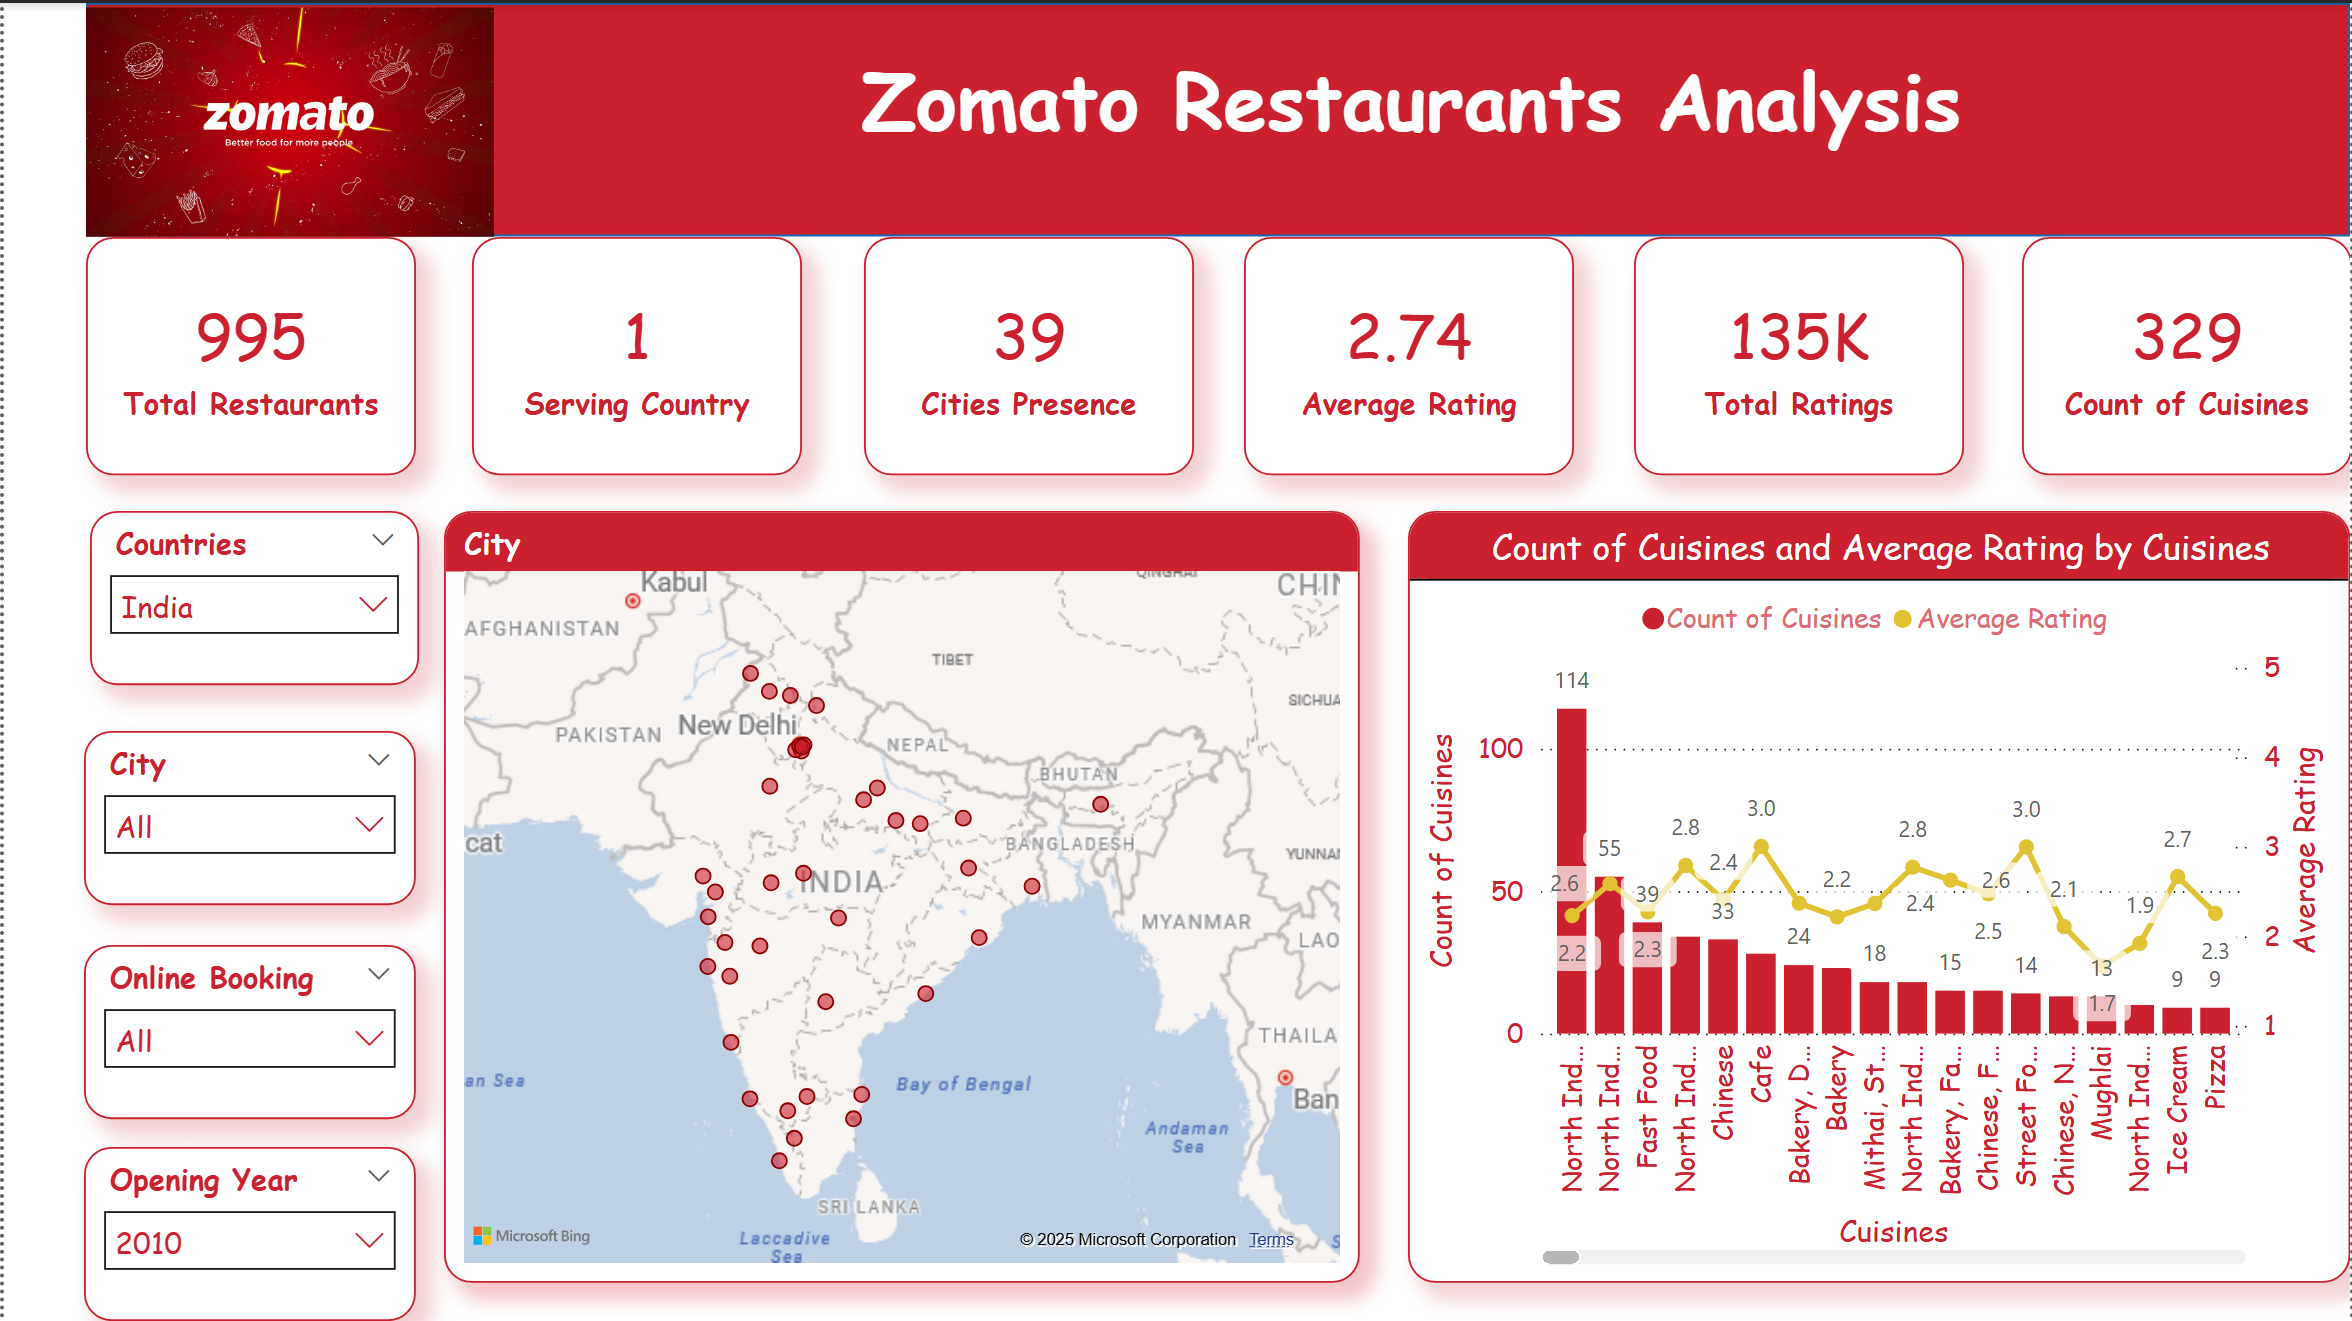

The page's visual inventory and layout, read from the dashboard file:
{"tool":"powerbi","page":{"name":"Page 1","canvas":[1280,720],"ordinal":0},"visuals":[{"type":"shape","box":[45.2,0,1234.8,127.3],"z":0},{"type":"textbox","box":[360.9,16.9,813.4,88.8],"z":2000},{"type":"card","fields":{"Values":["Count(restaurants.RestaurantID)"]},"box":[45.2,127.3,180,130],"z":3000},{"type":"card","fields":{"Values":["Count(restaurants.City)"]},"box":[468.7,127.3,180,130],"z":4000},{"type":"card","fields":{"Values":["Count(countries.countryID)"]},"box":[255.8,127.3,180,130],"z":5000},{"type":"card","fields":{"Values":["Avg(restaurants.Rating)"]},"box":[676.9,127.3,180,130],"z":6000},{"type":"card","fields":{"Values":["Sum(restaurants.Votes)"]},"box":[888.6,127.3,180,130],"z":7000},{"type":"card","fields":{"Values":["Count(restaurants.Cuisines)"]},"box":[1100.4,127.3,180,130],"z":8000},{"type":"slicer","fields":{"Values":["countries.country name"]},"box":[46.4,277.2,179.6,95.2],"z":9000},{"type":"lineStackedColumnComboChart","fields":{"Category":["restaurants.Cuisines"],"Y":["CountNonNull(restaurants.Cuisines)"],"Y2":["Avg(restaurants.Rating)"]},"box":[766.1,277.2,513.9,421.1],"z":10000},{"type":"slicer","fields":{"Values":["restaurants.City"]},"box":[44,397.3,180.8,95.2],"z":11000},{"type":"map","fields":{"Category":["restaurants.City"]},"box":[240.3,277.2,499.6,421.1],"z":11001},{"type":"slicer","fields":{"Values":["restaurants.Has_Online_delivery"]},"box":[44,513.9,180.8,95.2],"z":11002},{"type":"slicer","fields":{"Values":["restaurants.Datekey_Opening.Variation.Date Hierarchy.Year"]},"box":[44,624.5,180.8,95.2],"z":11003},{"type":"image","box":[44.7,0,222.5,129.8],"z":11004}]}

Visuals, with their boxes in screenshot pixels (x1, y1, x2, y2), scaled from the page's 1280x720 canvas onto the 2352x1321 screenshot:
shape: BBox(83, 0, 2351, 234)
textbox: BBox(663, 31, 2158, 194)
card - Count(restaurants.RestaurantID): BBox(83, 234, 414, 472)
card - Count(restaurants.City): BBox(861, 234, 1192, 472)
card - Count(countries.countryID): BBox(470, 234, 801, 472)
card - Avg(restaurants.Rating): BBox(1244, 234, 1575, 472)
card - Sum(restaurants.Votes): BBox(1633, 234, 1964, 472)
card - Count(restaurants.Cuisines): BBox(2022, 234, 2351, 472)
slicer - countries.country name: BBox(85, 509, 415, 683)
lineStackedColumnComboChart - restaurants.Cuisines x CountNonNull(restaurants.Cuisines): BBox(1408, 509, 2351, 1281)
slicer - restaurants.City: BBox(81, 729, 413, 904)
map - restaurants.City: BBox(442, 509, 1360, 1281)
slicer - restaurants.Has_Online_delivery: BBox(81, 943, 413, 1118)
slicer - restaurants.Datekey_Opening.Variation.Date Hierarchy.Year: BBox(81, 1146, 413, 1320)
image: BBox(82, 0, 491, 238)
